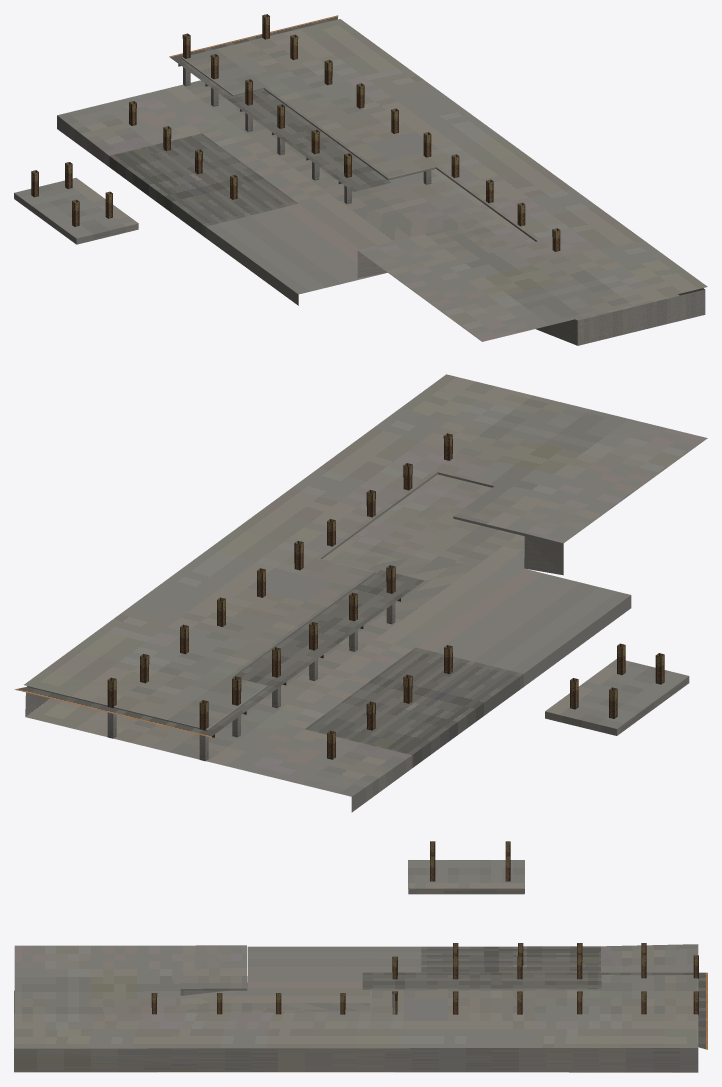
The model's file is lodcusconstruct01.obj.
3 views of the same model, one above another, from view 1: azimuth 30°, elevation 25°; view 2: azimuth 150°, elevation 25°; view 3: azimuth 270°, elevation 25° (orthographic). The views are drawn at different scales.
Visible parts, largest first — view 1: lodcusconstruct01; view 2: lodcusconstruct01; view 3: lodcusconstruct01.
Boxes of the visible parts, left/top/right/bottom form: lodcusconstruct01: left=14, top=14, right=707, bottom=345; lodcusconstruct01: left=14, top=374, right=707, bottom=812; lodcusconstruct01: left=14, top=841, right=707, bottom=1072.
Bounding box in the file's own units: 91.12 × 13.14 × 139.
Materials: 1 (1 with a texture image).
